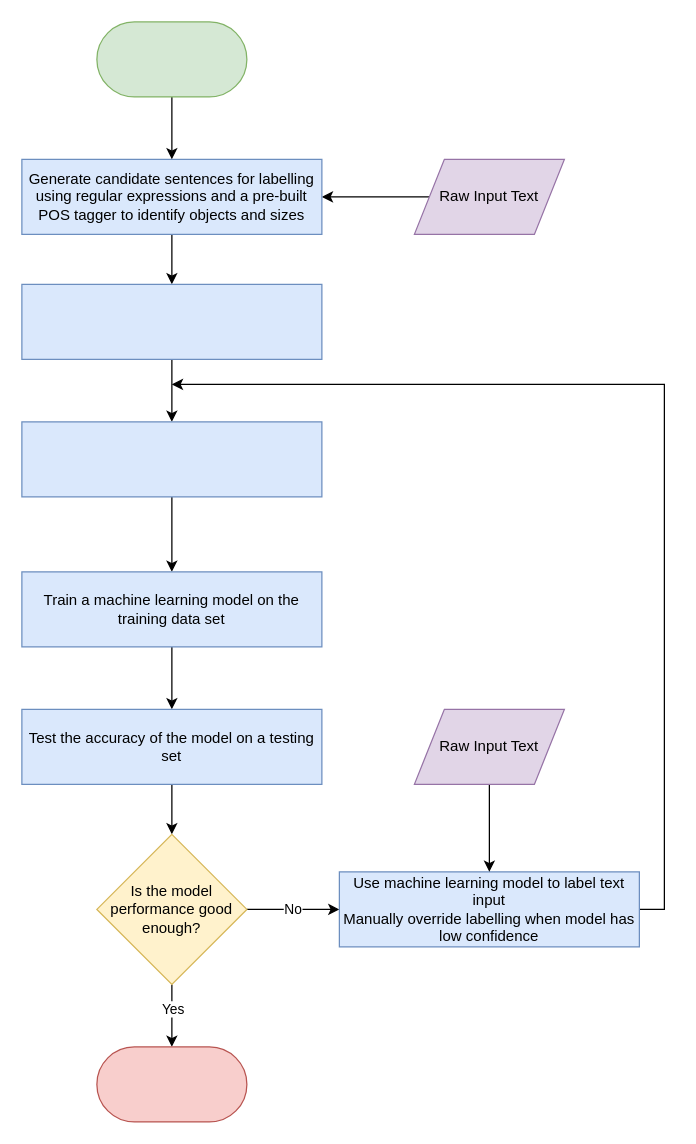
This 696x1144 diagram has some shape labels left out. The shapes that lost their labels are listed below. From the top down, each one's box as (x1, y1, x2, y2) in pixels, then its label:
(96, 21, 247, 97): Start
(21, 283, 322, 359): Label sentences
(21, 421, 322, 497): Generate features for labelled sentences to create a set of training data
(96, 1046, 247, 1122): Save model
